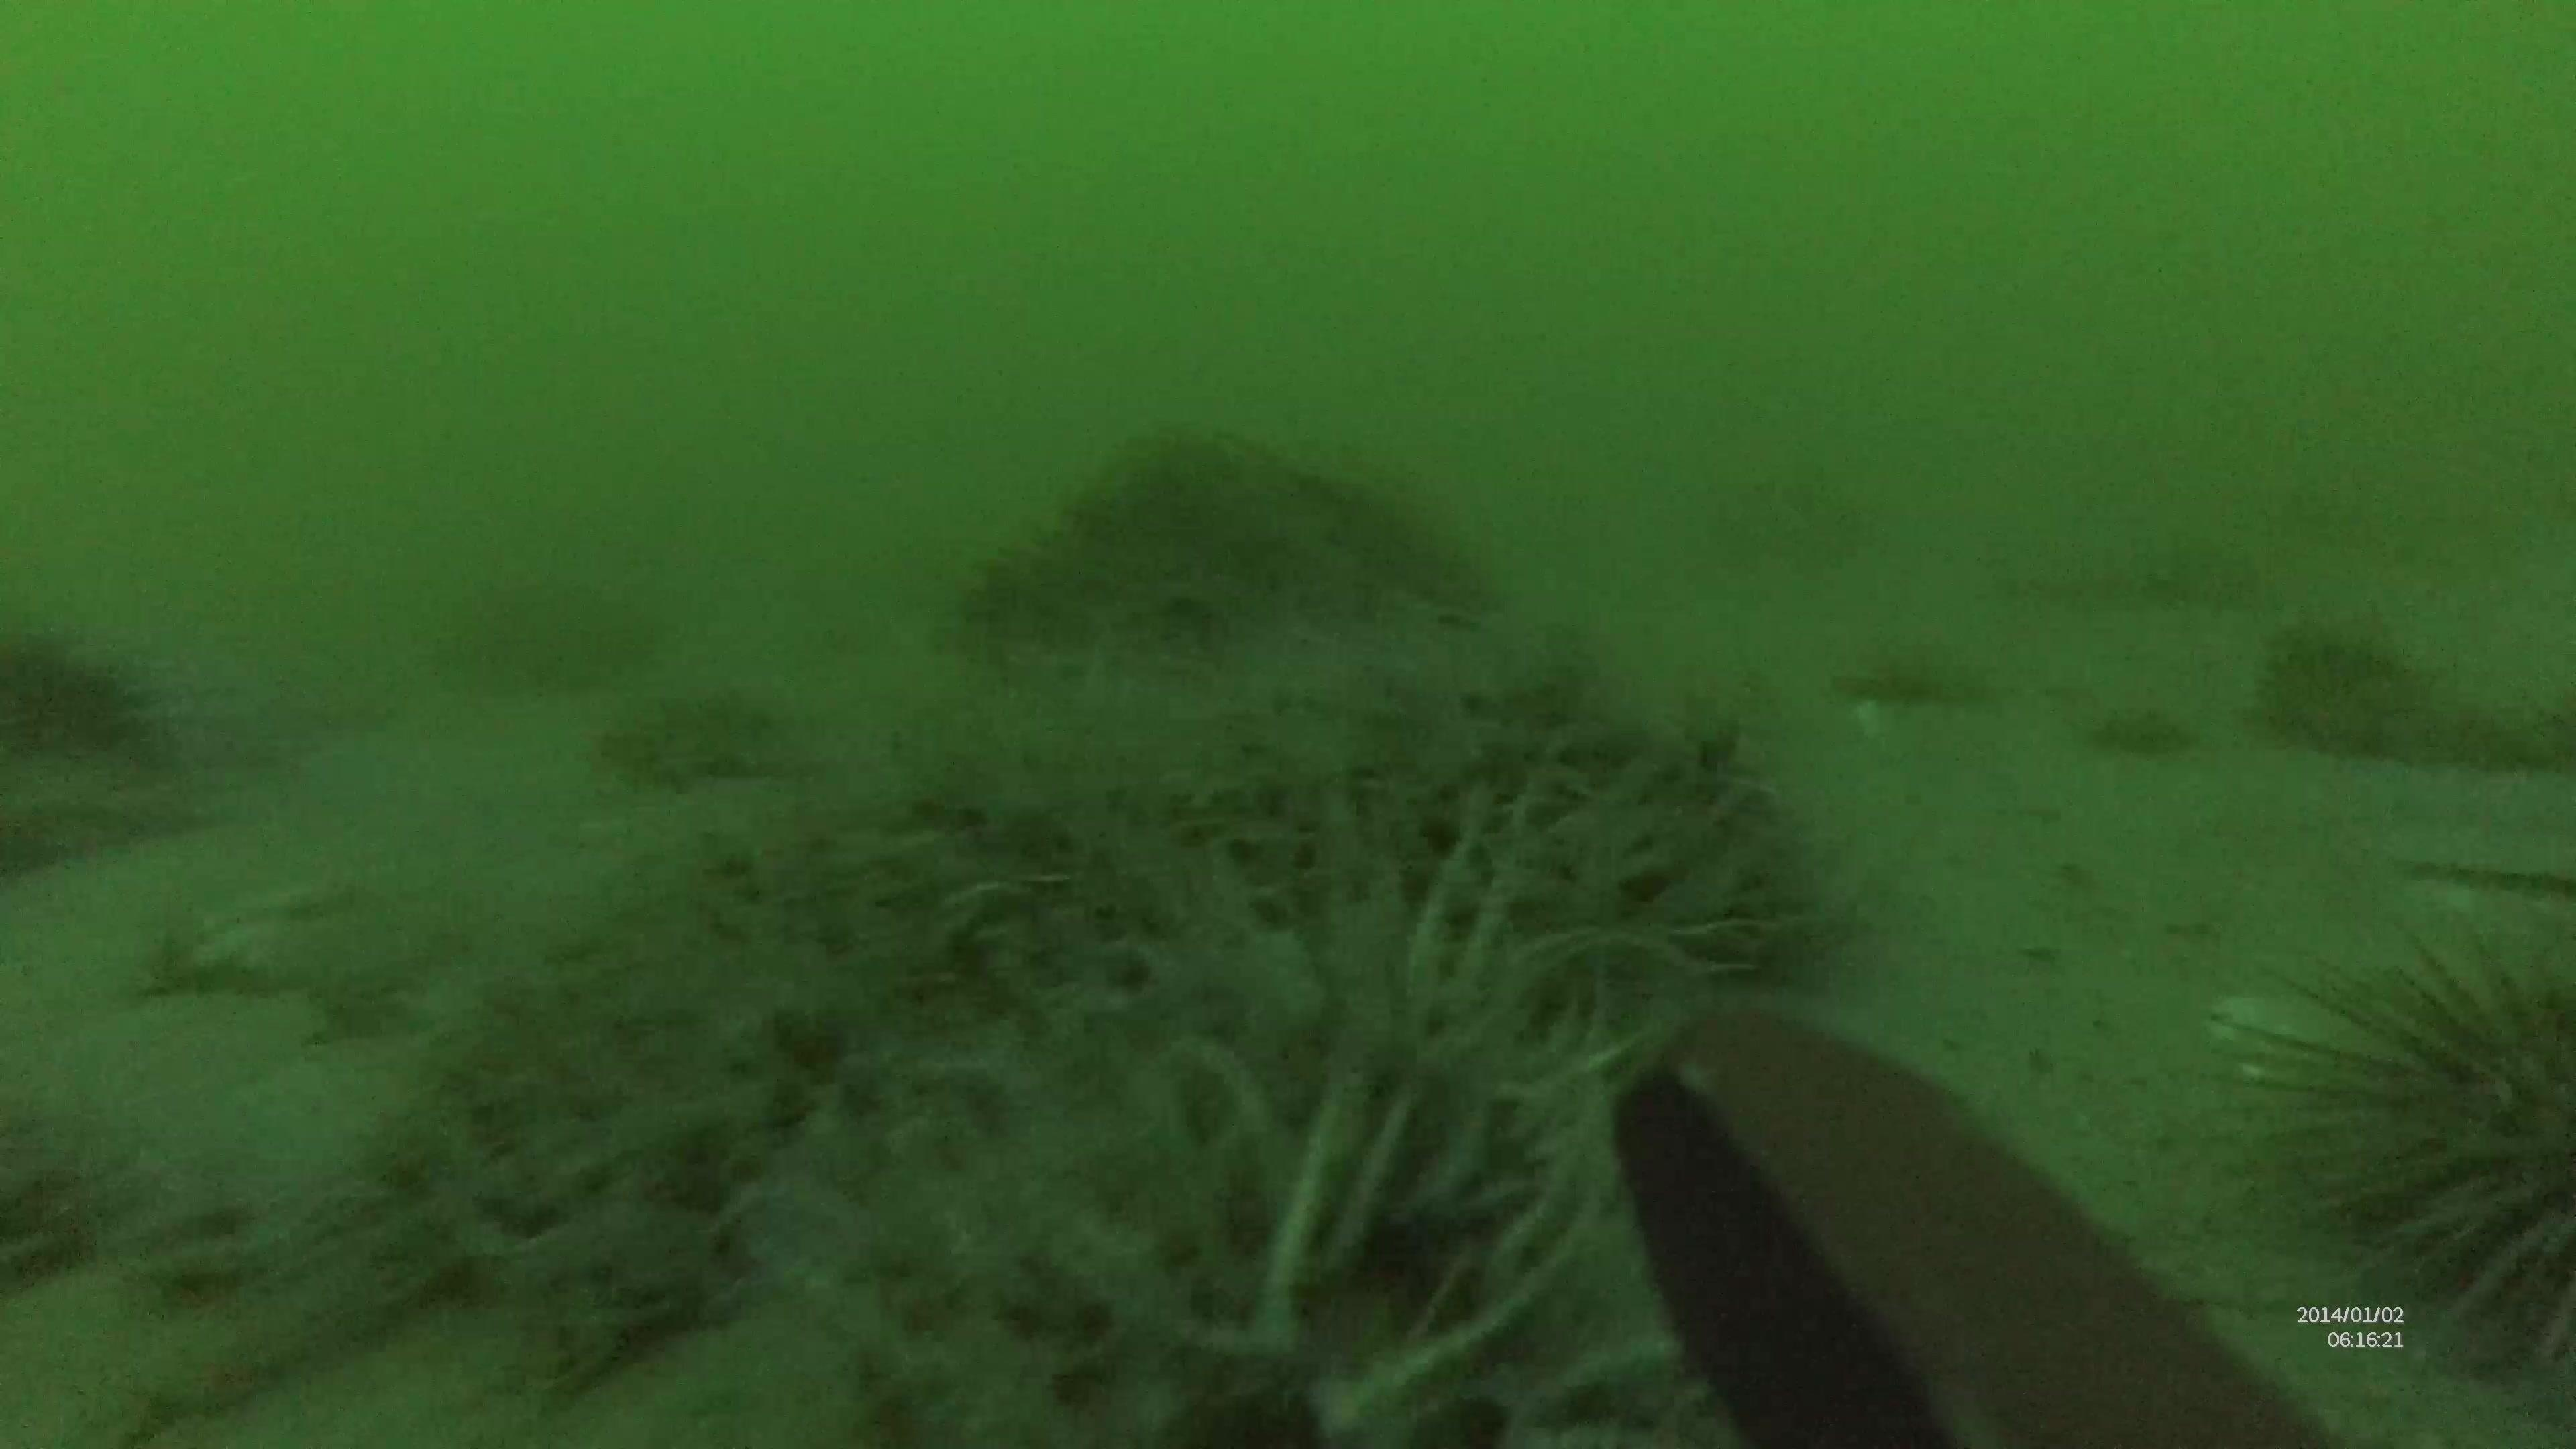echinus: (2217, 902, 2572, 1368), (2, 623, 159, 777)
